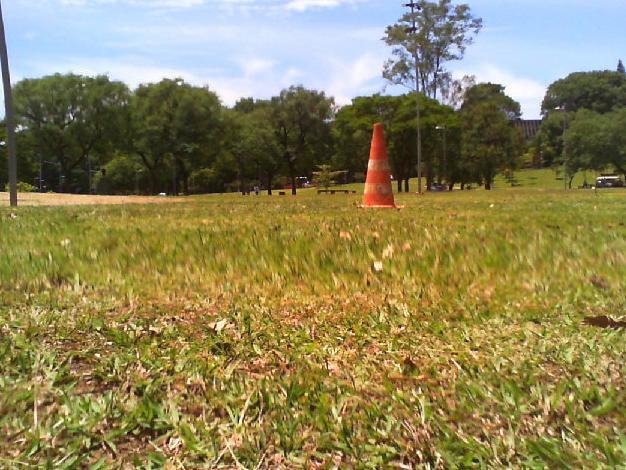0 cone: (354, 121, 407, 211)
